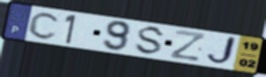1: (64, 14, 78, 45)
9: (101, 20, 132, 53)
C: (27, 11, 62, 40)
J: (204, 35, 239, 67)
S: (132, 25, 168, 56)
Z: (168, 28, 208, 63)
